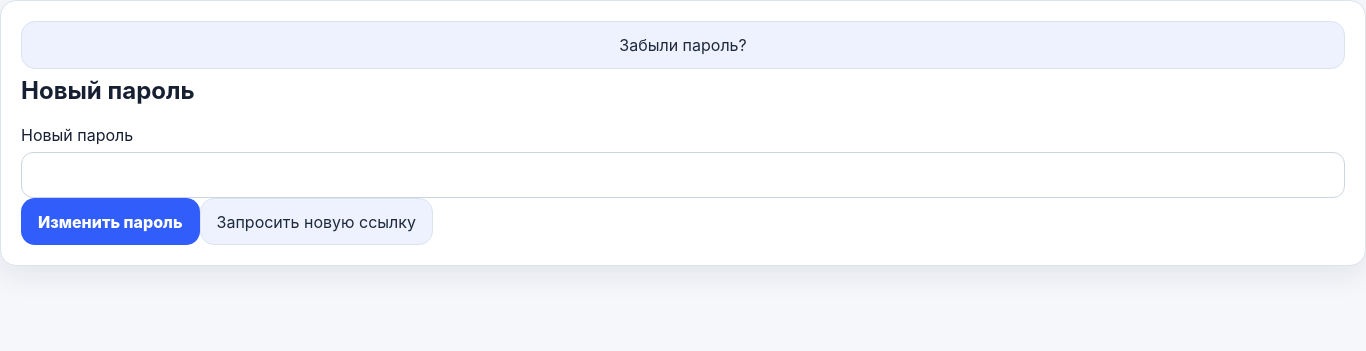
removes the single-use token from the URL and confirms the new password
Type "synthetic-new-password" into the password field labelled "Новый пароль".
click(683, 175); type("synthetic-new-password")  # box [21,152,1345,198]
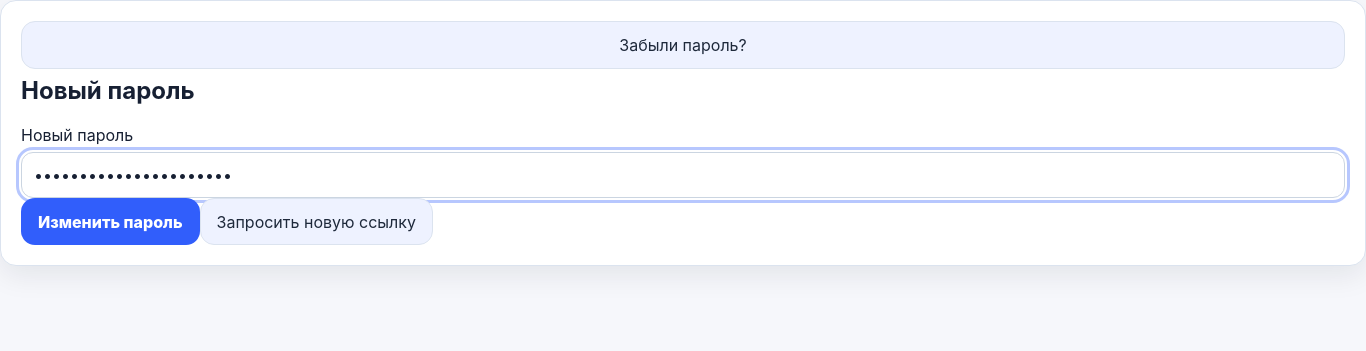
Click the button "Изменить пароль".
click(110, 222)  # box [21,198,200,246]
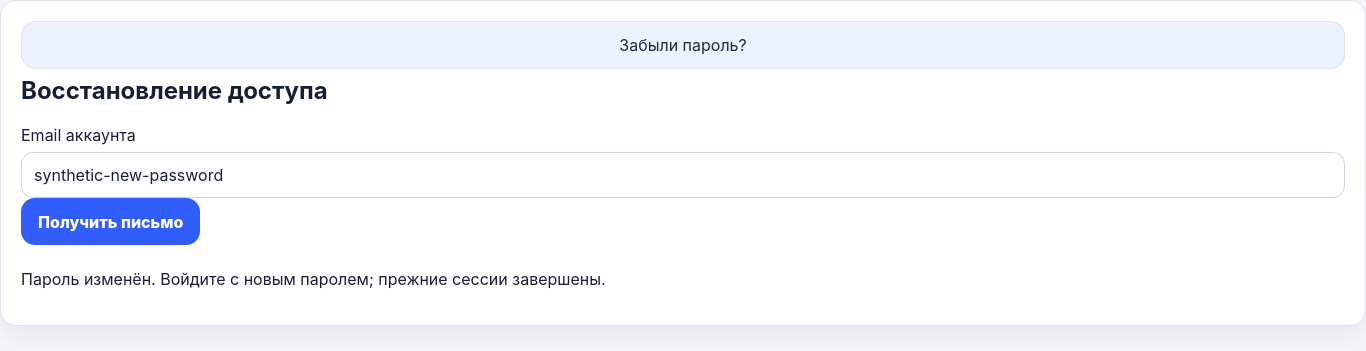
Expected: the text "Пароль изменён. Войдите с новым паролем; прежние сессии завершены." is shown, [21,269,606,289]
